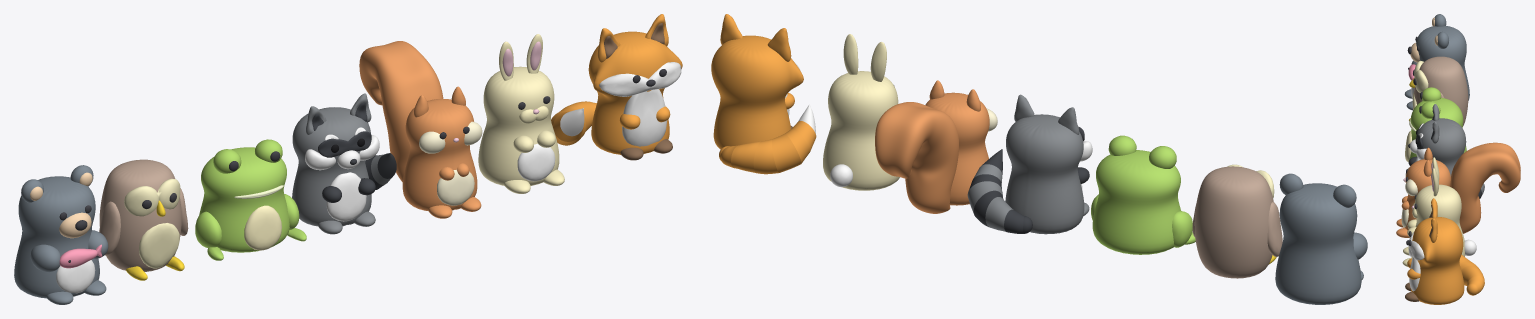
File: animais.fbx
The picture shows the model from 3 angles, left to right: view 1: azimuth 30°, elevation 25°; view 2: azimuth 150°, elevation 25°; view 3: azimuth 270°, elevation 25°; orthographic projection. The views are drawn at different scales.
Visible parts, largest first — view 1: esquilo, raposa, guaxinim, urso, sapo, coelho, coruja; view 2: raposa, guaxinim, esquilo, urso, sapo, coruja, coelho; view 3: raposa, esquilo, guaxinim, coruja, urso, coelho, sapo.
Part boxes in pixels (x1,y1,x2,y2): esquilo: (359, 41, 482, 218); raposa: (551, 14, 682, 160); guaxinim: (292, 93, 396, 234); urso: (14, 165, 108, 304); sapo: (195, 139, 306, 260); coelho: (478, 34, 564, 193); coruja: (99, 159, 188, 280); raposa: (711, 14, 816, 174); guaxinim: (967, 94, 1092, 234); esquilo: (875, 80, 997, 213); urso: (1275, 173, 1367, 304); sapo: (1091, 135, 1195, 254); coruja: (1192, 164, 1282, 278); coelho: (823, 34, 899, 190); raposa: (1405, 198, 1484, 304); esquilo: (1396, 142, 1520, 237); guaxinim: (1408, 104, 1484, 198); coruja: (1409, 56, 1468, 126); urso: (1404, 14, 1469, 110); coelho: (1402, 157, 1476, 266); sapo: (1405, 87, 1466, 162).
Bounding box in the file's own units: 1.49 × 0.306 × 0.3495.
